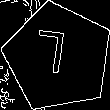L_S: (39, 30, 77, 85)
